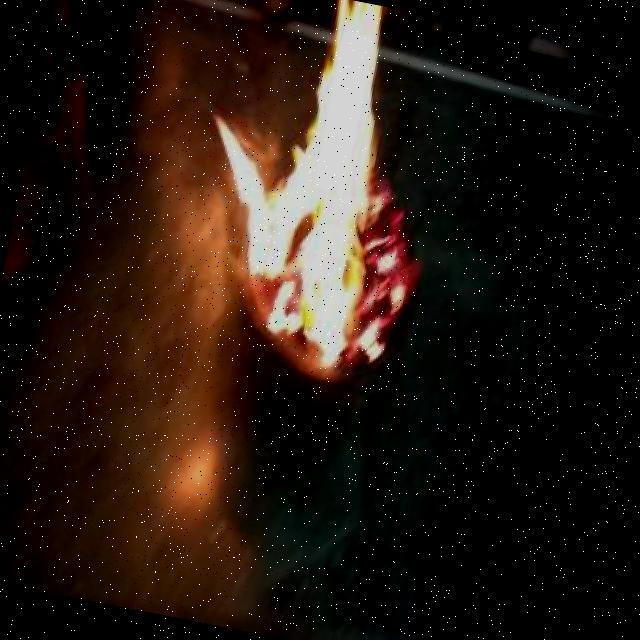Fire: (174, 0, 460, 388)
